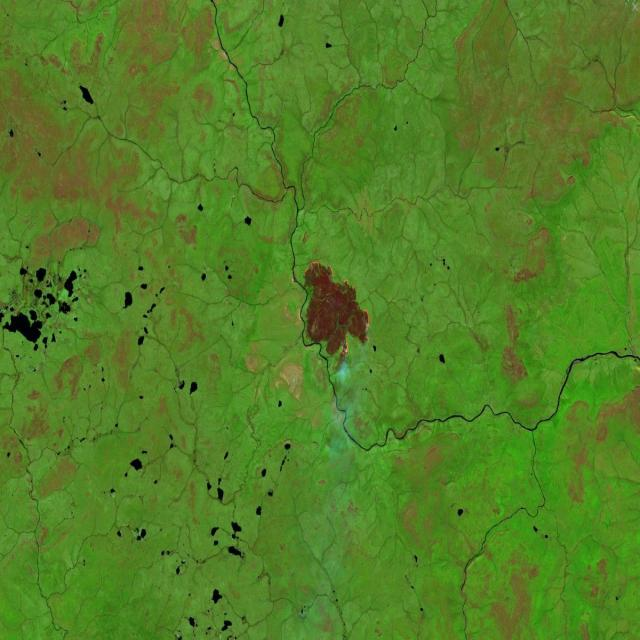fire: (302, 259, 372, 369)
